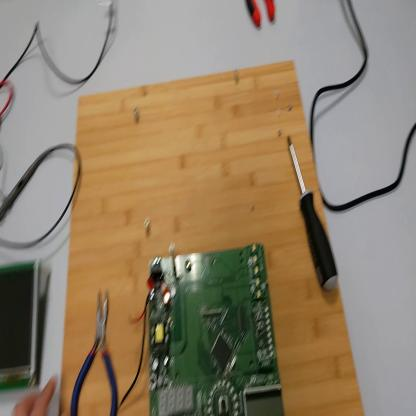hand: (12, 372, 64, 415)
low voltage board: (120, 244, 284, 415)
oscilloscope probe tip: (2, 151, 55, 219)
pliers: (71, 292, 121, 414), (246, 1, 277, 30)
screwdriver-: (287, 132, 338, 293)
working area: (58, 60, 366, 416)
